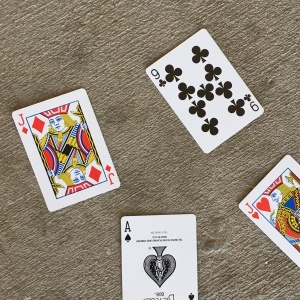card: (145, 28, 265, 154), (11, 87, 123, 213)
